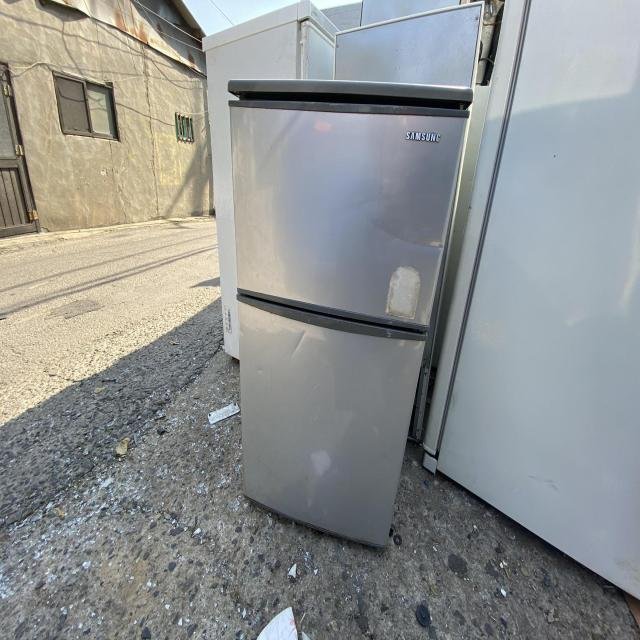refrigerator: (223, 73, 479, 554)
